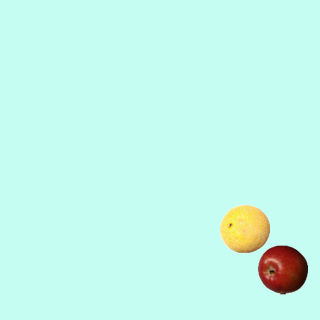Apple Braeburn: (257, 244, 307, 294)
Cantaloupe 1: (219, 203, 269, 253)
